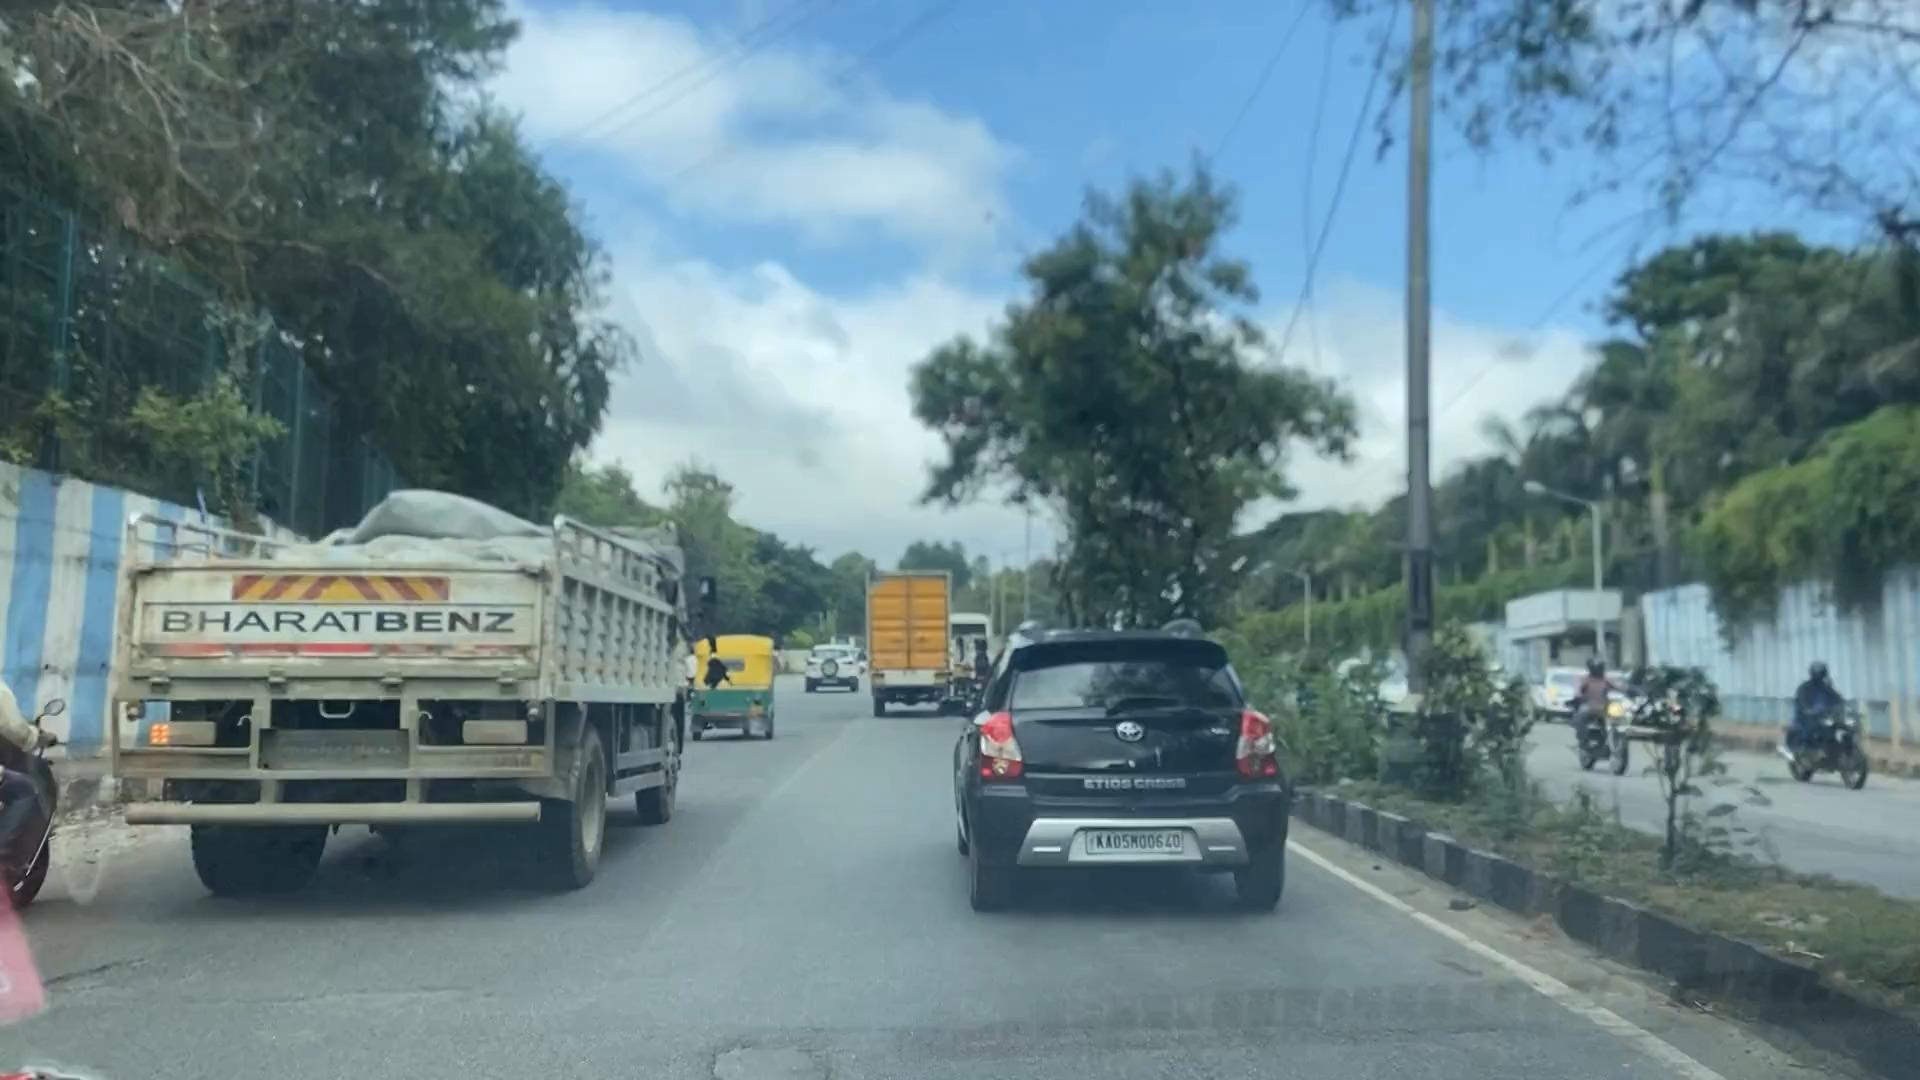HMV: (121, 505, 683, 887), (860, 568, 957, 716)
LMV: (959, 642, 1290, 913)
RoadDamages: (256, 969, 479, 1040), (687, 1005, 858, 1080), (47, 948, 220, 1013)
